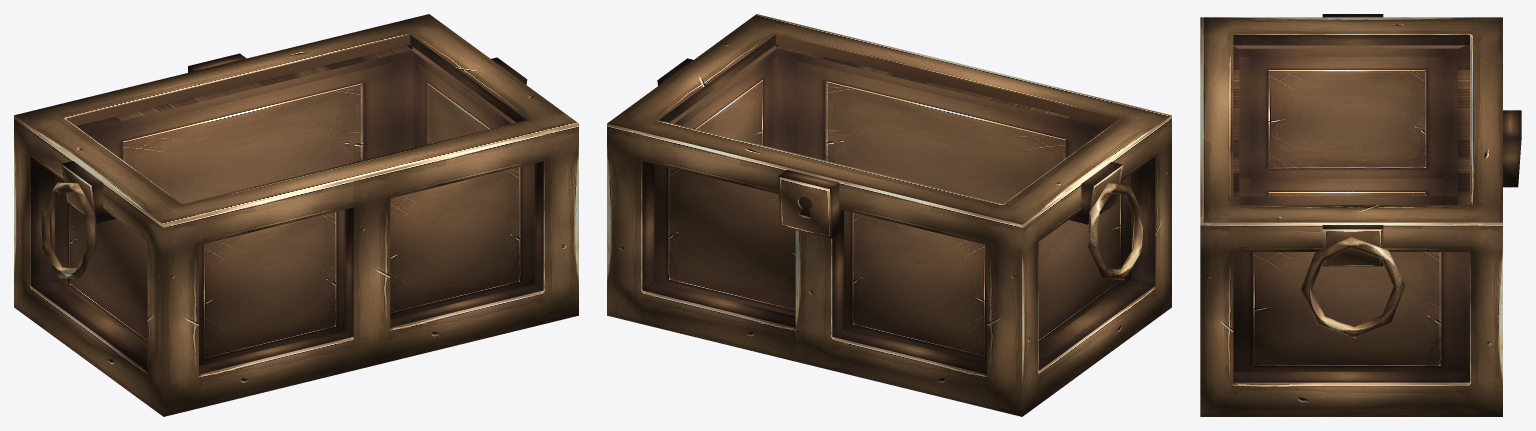
The model's file is goldbottom.fbx.
3 views of the same model, side by side, from view 1: azimuth 30°, elevation 25°; view 2: azimuth 150°, elevation 25°; view 3: azimuth 270°, elevation 25° (orthographic).
Visible parts, largest first — view 1: Mesh; view 2: Mesh; view 3: Mesh.
Part boxes in pixels (box(x1,y1,x2,y2)): Mesh: box(14, 14, 578, 416); Mesh: box(607, 14, 1171, 416); Mesh: box(1200, 14, 1521, 416).
Bounding box in the file's own units: 13.54 × 5.23 × 7.84.
